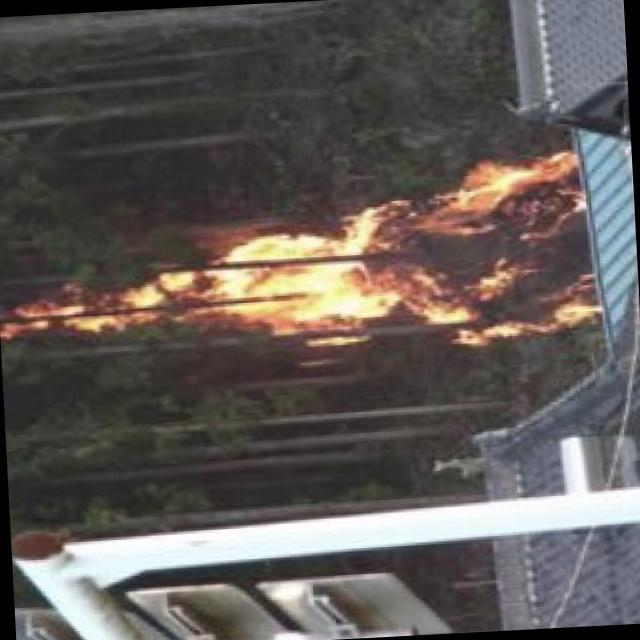Fire: (1, 158, 600, 369)
